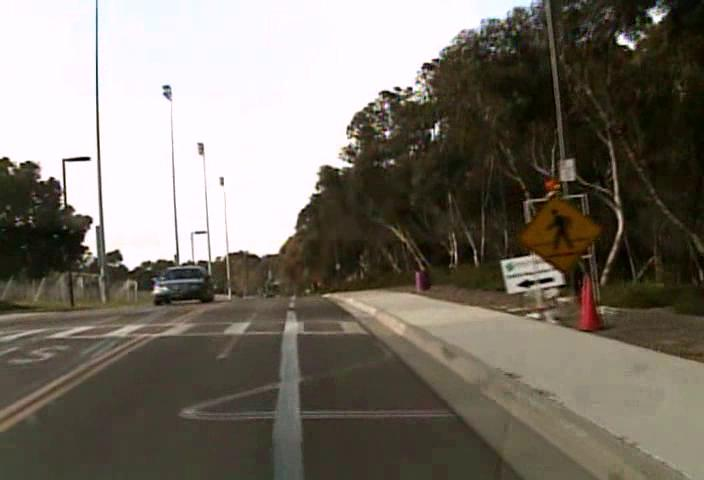pedestrianCrossing: (515, 193, 602, 273)
